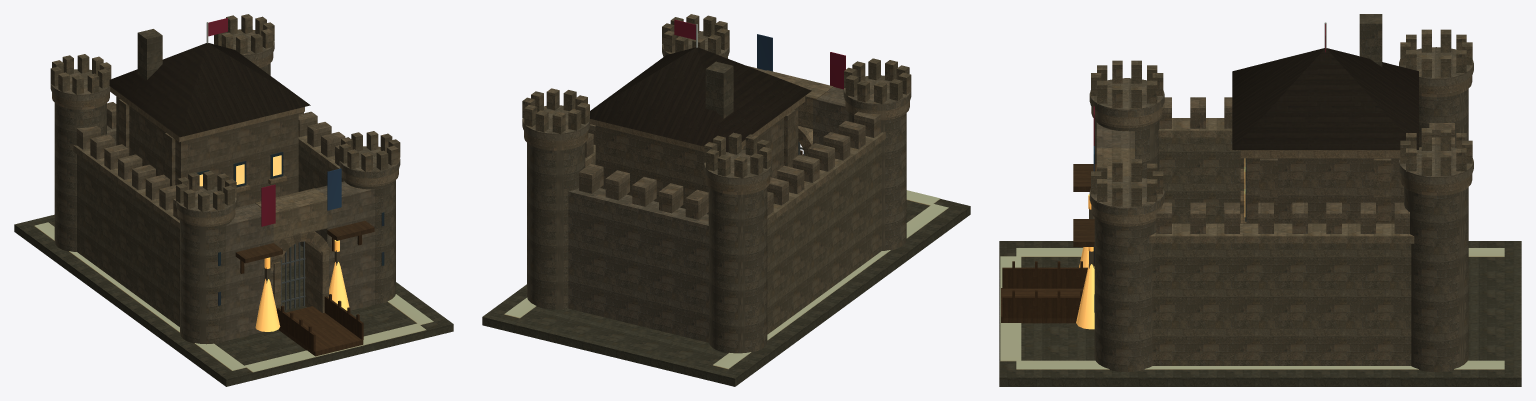
3 views of the same model, side by side, from view 1: azimuth 30°, elevation 25°; view 2: azimuth 150°, elevation 25°; view 3: azimuth 270°, elevation 25° (orthographic). The views are drawn at different scales.
Parts seen in each view (by area): view 1: Weathered limestone, Timber and slate, Water and fire, Iron and banners; view 2: Weathered limestone, Timber and slate, Water and fire, Iron and banners; view 3: Weathered limestone, Timber and slate, Water and fire, Iron and banners.
Boxes of the visible parts, bbox=[...] form: Weathered limestone: bbox=[14, 14, 453, 386]; Timber and slate: bbox=[109, 43, 374, 356]; Water and fire: bbox=[34, 155, 433, 372]; Iron and banners: bbox=[197, 18, 384, 310]; Weathered limestone: bbox=[482, 14, 970, 386]; Timber and slate: bbox=[590, 47, 811, 155]; Water and fire: bbox=[504, 190, 948, 369]; Iron and banners: bbox=[674, 19, 845, 155]; Weathered limestone: bbox=[999, 14, 1521, 386]; Timber and slate: bbox=[1001, 48, 1418, 323]; Water and fire: bbox=[1000, 158, 1504, 369]; Iron and banners: bbox=[1089, 22, 1326, 312].
Size of the model in its own units: 11.4 by 11.5 by 18.4.
4 materials, 2 textured.
